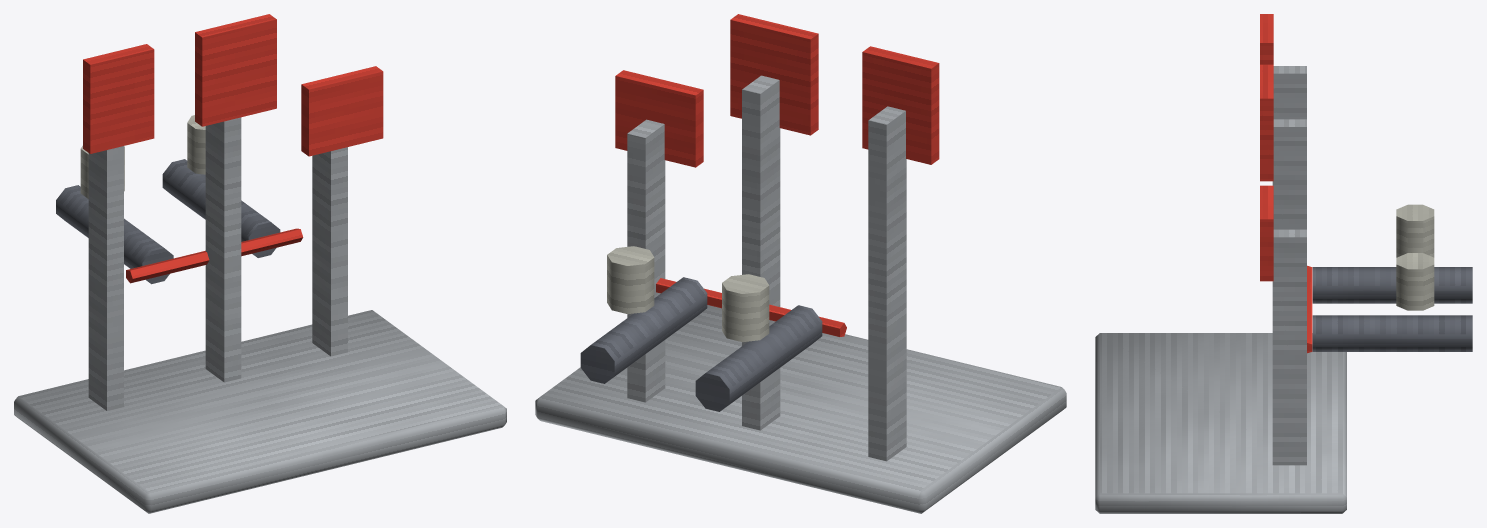
Rendered from balanco_freio_n4.glb.
3 views of the same model, side by side, from view 1: azimuth 30°, elevation 25°; view 2: azimuth 150°, elevation 25°; view 3: azimuth 270°, elevation 25° (orthographic). The views are drawn at different scales.
Parts seen in each view (by area): view 1: balanco_freio_n4; view 2: balanco_freio_n4; view 3: balanco_freio_n4.
Part boxes in pixels (x1,y1,x2,y2): balanco_freio_n4: [14, 14, 506, 513]; balanco_freio_n4: [535, 14, 1066, 513]; balanco_freio_n4: [1095, 14, 1472, 513].
Size of the model in its own units: 0.34 by 0.34 by 0.33.
Materials: 2 (2 with a texture image).
